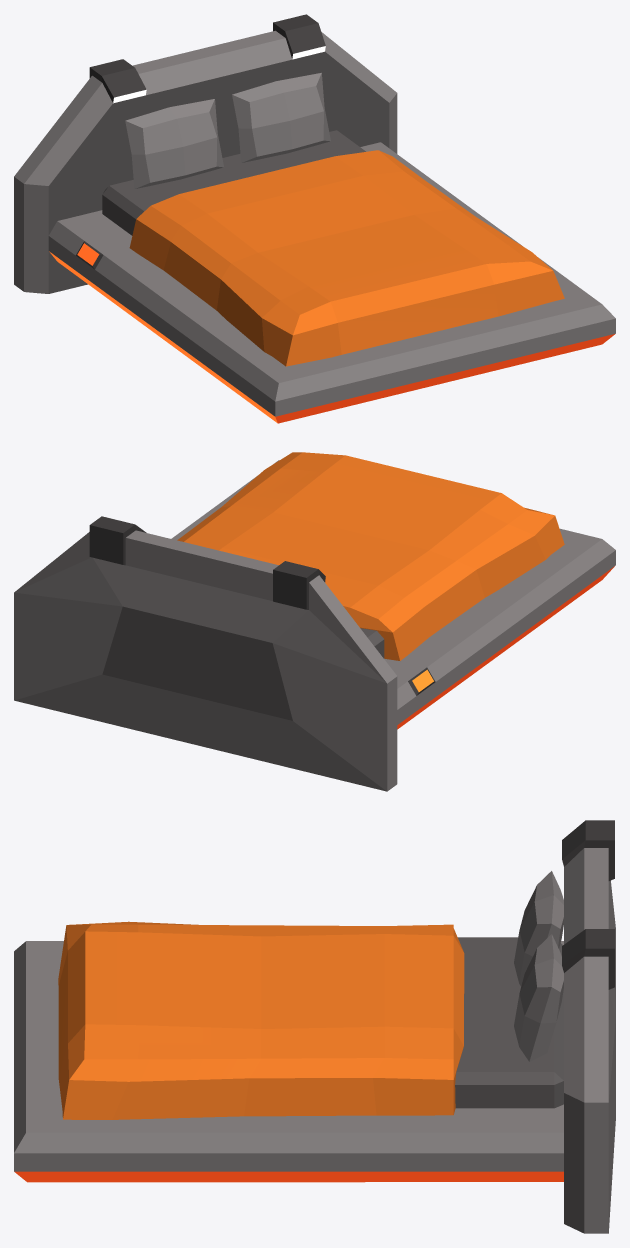
File: scifi_scifi-bed-large.fbx
3 renders of one model, top to bottom at view 1: azimuth 30°, elevation 25°; view 2: azimuth 150°, elevation 25°; view 3: azimuth 270°, elevation 25°, orthographic. The views are drawn at different scales.
Parts seen in each view (by area): view 1: scifi_scifi_bed_large; view 2: scifi_scifi_bed_large; view 3: scifi_scifi_bed_large.
Part boxes in pixels (left/top/right/bottom): scifi_scifi_bed_large: left=14, top=14, right=615, bottom=423; scifi_scifi_bed_large: left=14, top=452, right=615, bottom=791; scifi_scifi_bed_large: left=14, top=820, right=615, bottom=1233.
Size of the model in its own units: 174 by 87.43 by 200.
